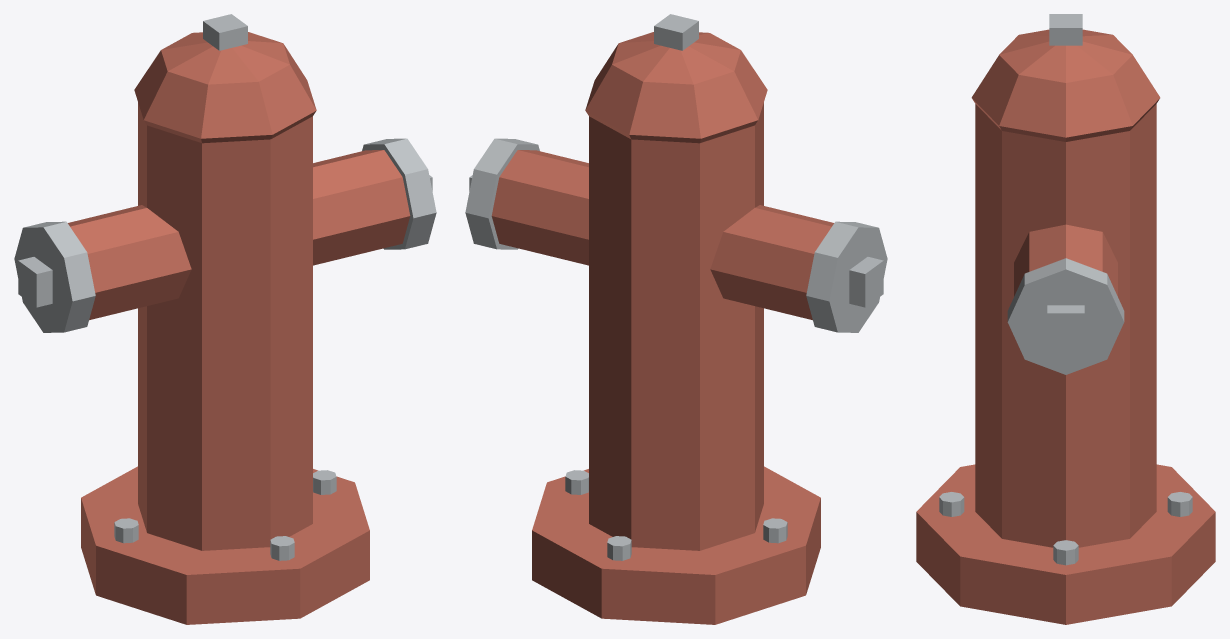
Rendered from FireHydrant.glb.
3 renders of one model, left to right at view 1: azimuth 30°, elevation 25°; view 2: azimuth 150°, elevation 25°; view 3: azimuth 270°, elevation 25°, orthographic.
Parts seen in each view (by area): view 1: ST_FireHydrant_ST_red.001, ST_FireHydrant_ST_steel.001; view 2: ST_FireHydrant_ST_red.001, ST_FireHydrant_ST_steel.001; view 3: ST_FireHydrant_ST_red.001, ST_FireHydrant_ST_steel.001.
Boxes of the visible parts, bbox=[...] form: ST_FireHydrant_ST_red.001: bbox=[68, 32, 410, 624]; ST_FireHydrant_ST_steel.001: bbox=[14, 14, 436, 560]; ST_FireHydrant_ST_red.001: bbox=[491, 32, 833, 624]; ST_FireHydrant_ST_steel.001: bbox=[465, 14, 887, 560]; ST_FireHydrant_ST_red.001: bbox=[916, 29, 1215, 624]; ST_FireHydrant_ST_steel.001: bbox=[939, 14, 1192, 565].
Bounding box in the file's own units: 0.581 × 0.7575 × 0.38.
